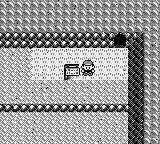leer: (64, 64, 80, 79)
main: (81, 61, 96, 76)
no-caminable: (1, 0, 160, 143)
puerta: (114, 33, 126, 48)
salto: (0, 104, 128, 112)
